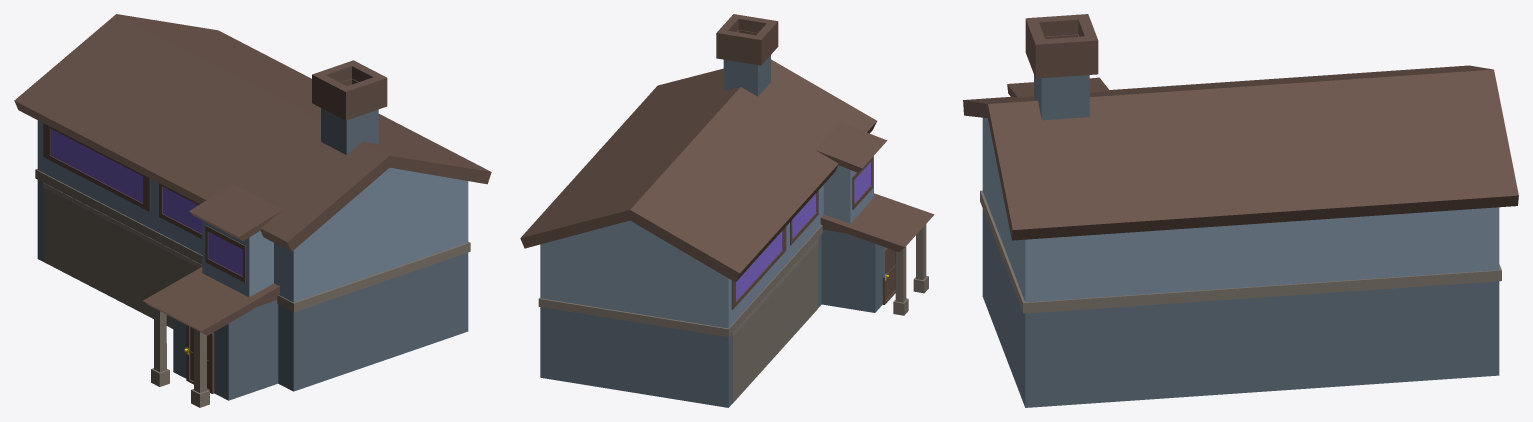
Rendered from CALLE4_CASA2_023.fbx.
3 renders of one model, left to right at view 1: azimuth 30°, elevation 25°; view 2: azimuth 150°, elevation 25°; view 3: azimuth 270°, elevation 25°, orthographic. The views are drawn at different scales.
Parts seen in each view (by area): view 1: CASA2.023; view 2: CASA2.023; view 3: CASA2.023.
Part boxes in pixels (x1,y1,x2,y2): CASA2.023: (14,14,491,407); CASA2.023: (520,14,934,407); CASA2.023: (963,14,1518,407).
Bounding box in the file's own units: 828 × 680 × 1075.
